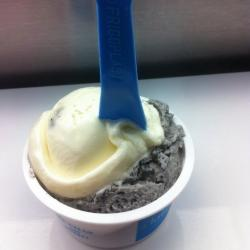icecream: (34, 78, 190, 224)
